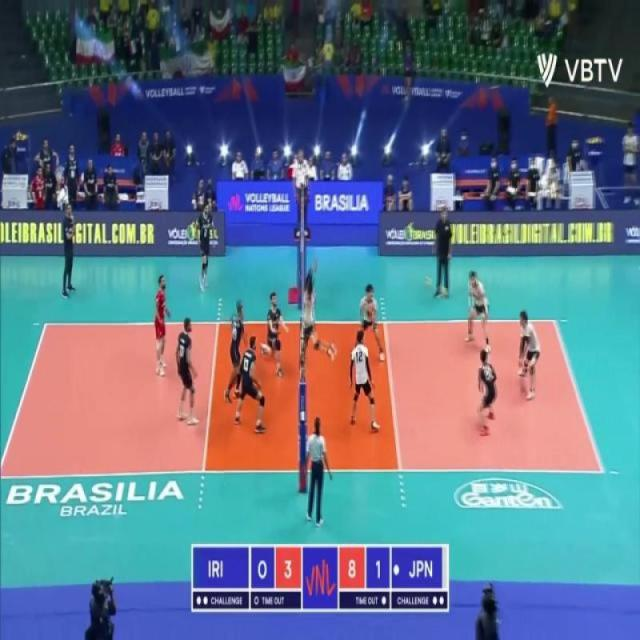volleyball: (422, 275, 450, 300), (585, 135, 604, 145), (15, 130, 22, 141)
